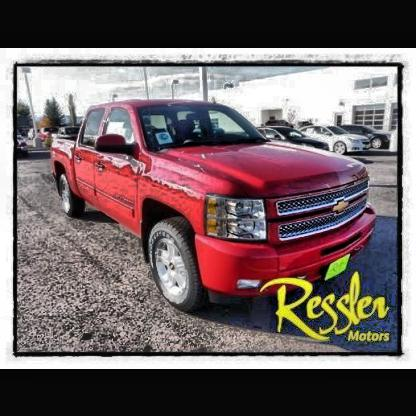Chevrolet Silverado 1500 Hybrid Crew Cab 2012: (53, 102, 376, 310)
